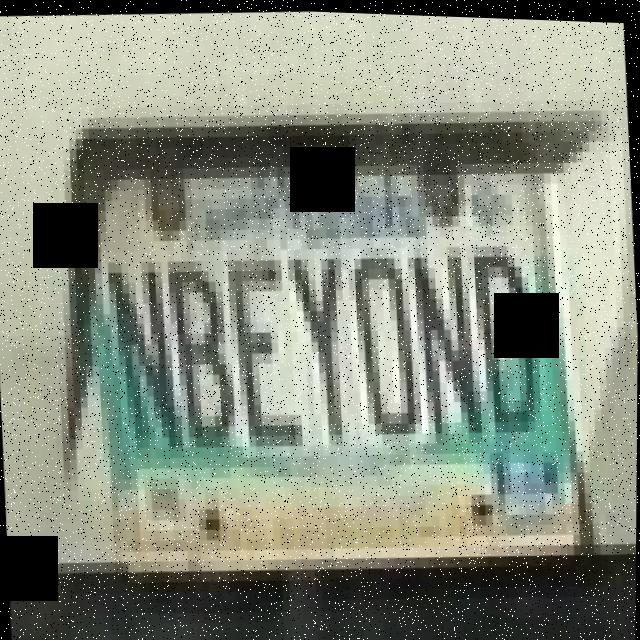0: (349, 230, 428, 447)
B: (164, 235, 245, 451)
D: (472, 221, 553, 443)
E: (221, 228, 314, 459)
N: (404, 225, 494, 455), (97, 241, 187, 467)
Y: (286, 221, 361, 450)
